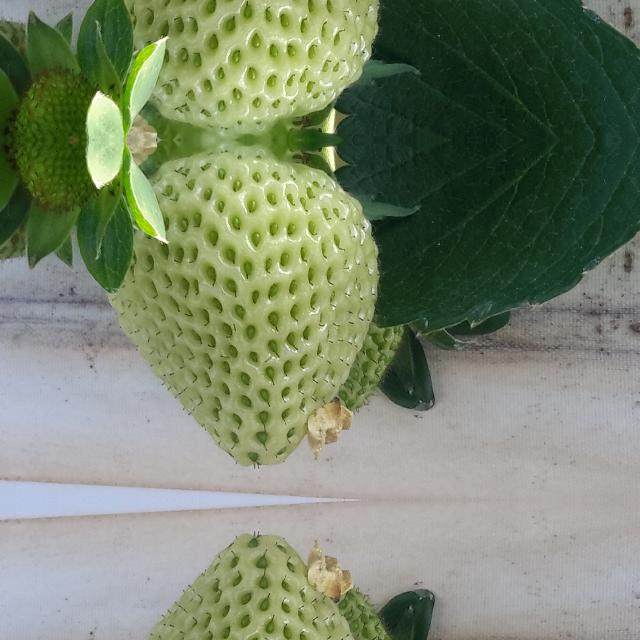Health_25: (106, 143, 378, 464), (106, 0, 377, 136), (106, 535, 377, 640)
